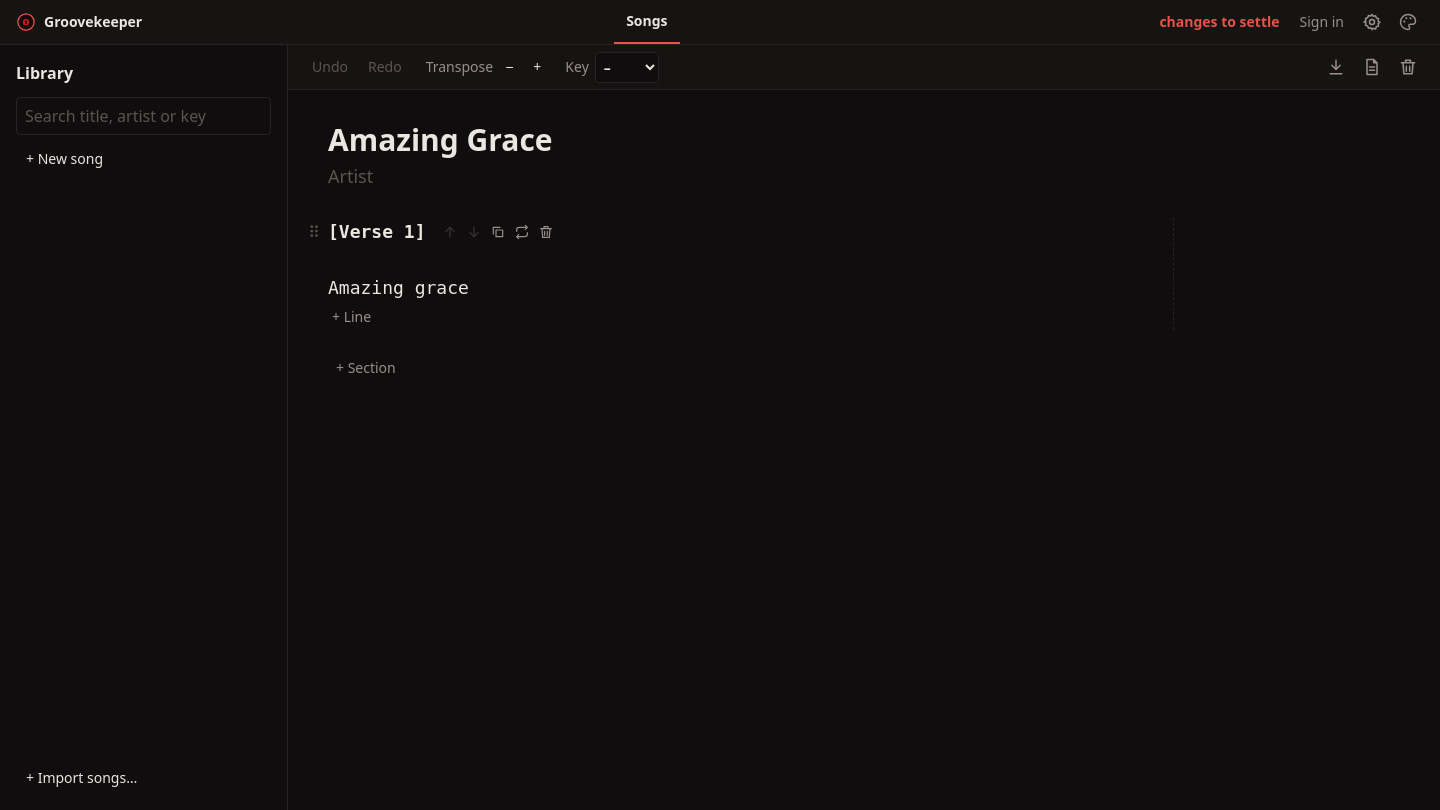
Test: a song that could not be saved › says so until a save works again
Type "!" into the field named "Lyrics".
click(409, 288); type("!")  # box [328,274,490,302]
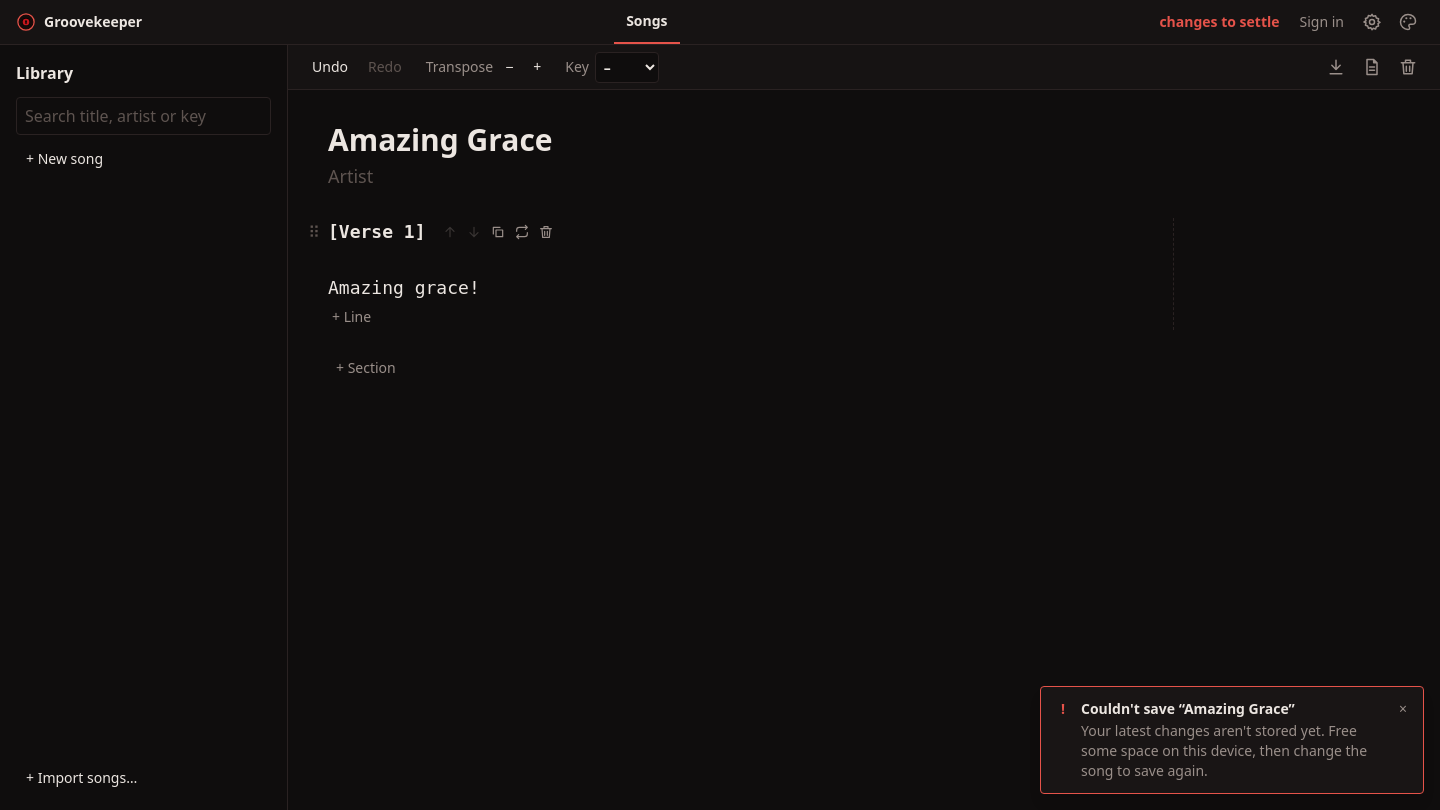
Now the message shows "Couldn't save “Amazing Grace”", box [1081,699,1295,718]
Type "!" into the field named "Lyrics".
click(415, 288); type("!")  # box [328,274,501,302]
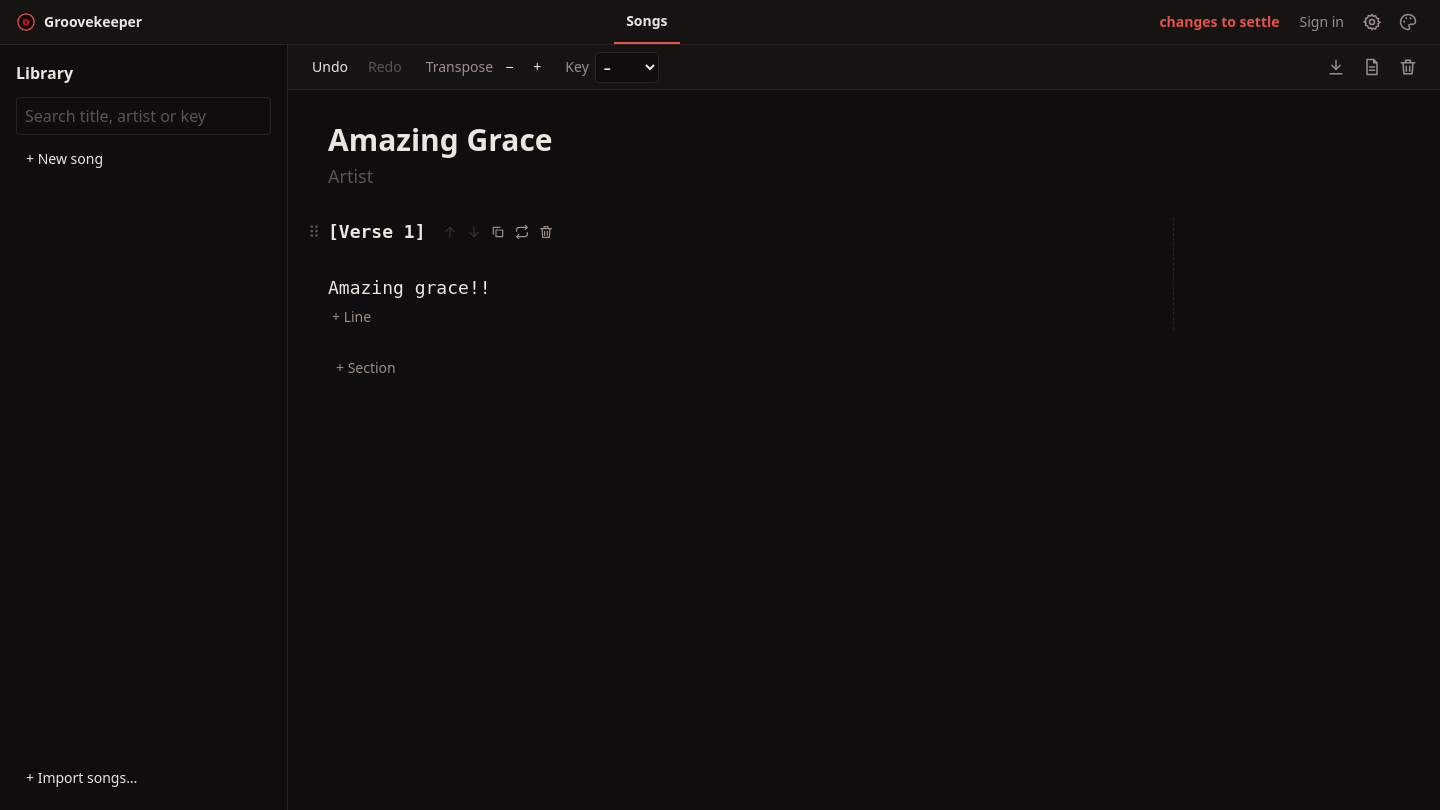
Now the message is gone
